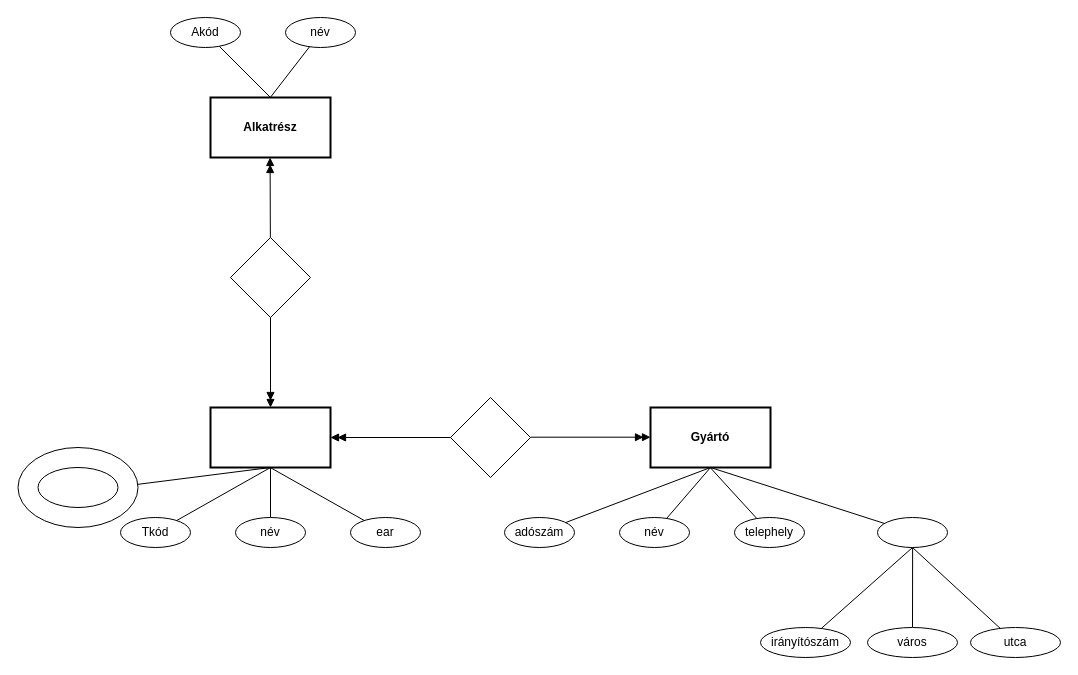
Some shapes in this 1078 by 675 pixel diagram are drawn without their labels. The centre of each missing label's shape, as x and y in pixels:
"A-T" goes at point (270, 277).
"egys. darabsz." goes at point (77, 487).
"postai cím" goes at point (912, 532).
"T-Gy" goes at point (490, 437).
"Termék" goes at point (270, 437).
